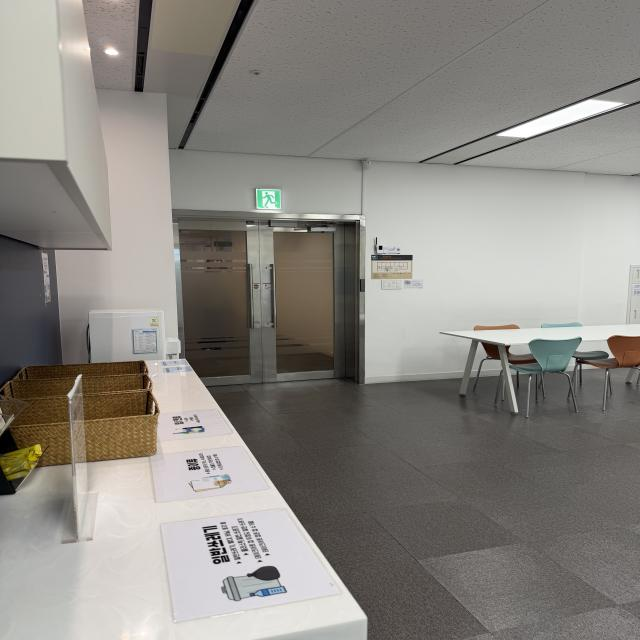rear_door: (177, 220, 345, 384)
